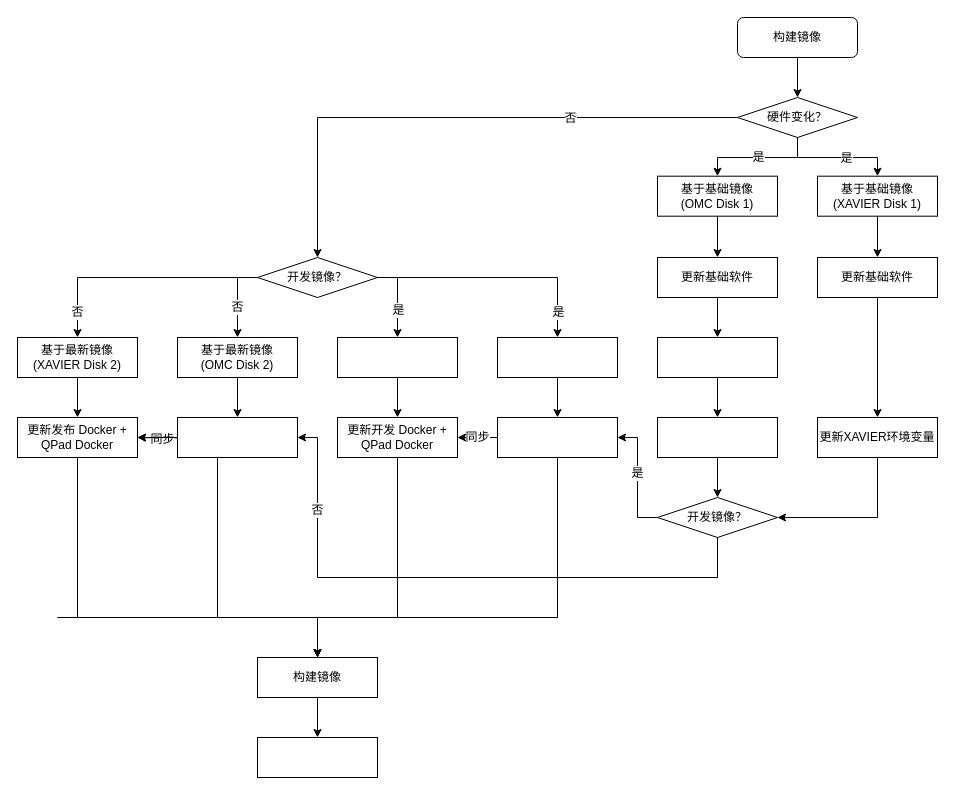
This 955x795 diagram has some shape labels left out. The box of each missing label's shape, as (x1, y1, x2, y2) in pixels:
基于最新开发镜像(OMC Disk 3): (496, 336, 618, 378)
基于最新开发镜像(XAVIER Disk 3): (336, 336, 458, 378)
更新OMC环境变量: (656, 416, 778, 458)
更新发布 Docker + Map: (176, 416, 298, 458)
更新开发 Docker + Map + QCraft: (496, 416, 618, 458)
结束: (256, 736, 378, 778)
重启系统: (656, 336, 778, 378)
